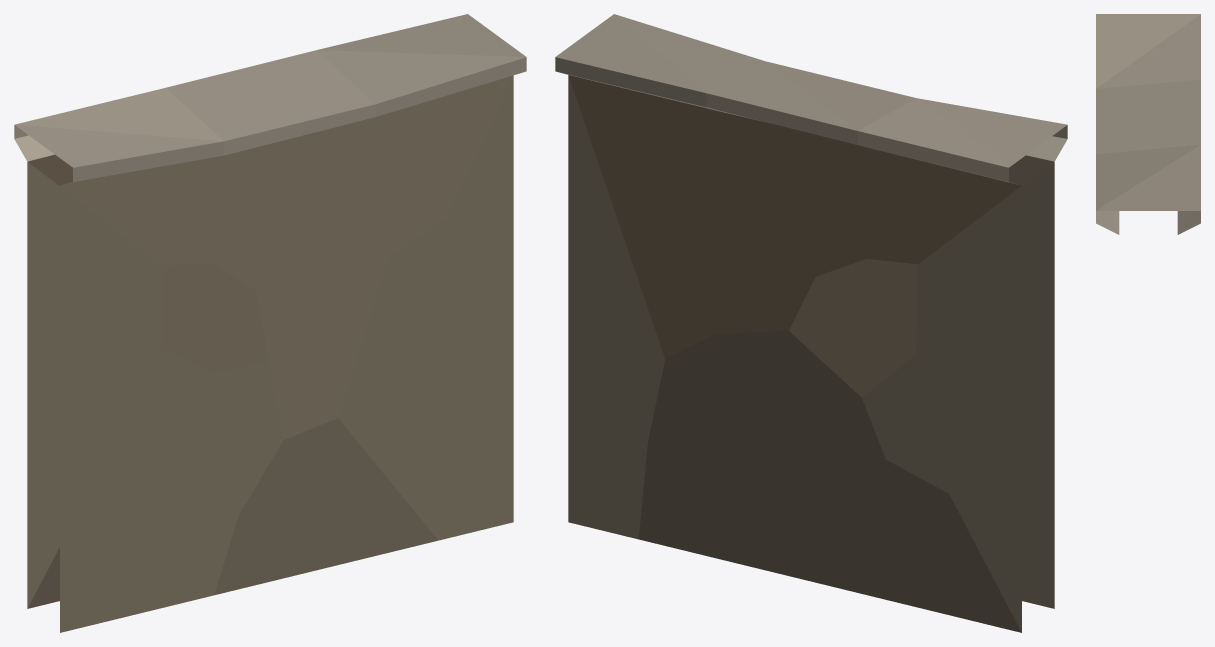
The model's file is Wall_A-2m.fbx.
The picture shows the model from 3 angles, left to right: view 1: azimuth 30°, elevation 25°; view 2: azimuth 150°, elevation 25°; view 3: azimuth 270°, elevation 25°; orthographic projection. The views are drawn at different scales.
Parts seen in each view (by area): view 1: Wall_A-2m; view 2: Wall_A-2m; view 3: Wall_A-2m.
Part boxes in pixels (x1,y1,x2,y2): Wall_A-2m: [14, 14, 526, 632]; Wall_A-2m: [555, 14, 1067, 632]; Wall_A-2m: [1096, 14, 1200, 234].
Size of the model in its own units: 200 by 200 by 45.
